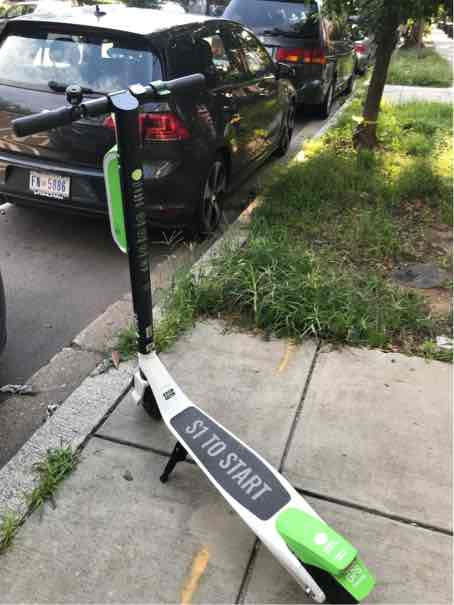scooter: (5, 56, 377, 605)
